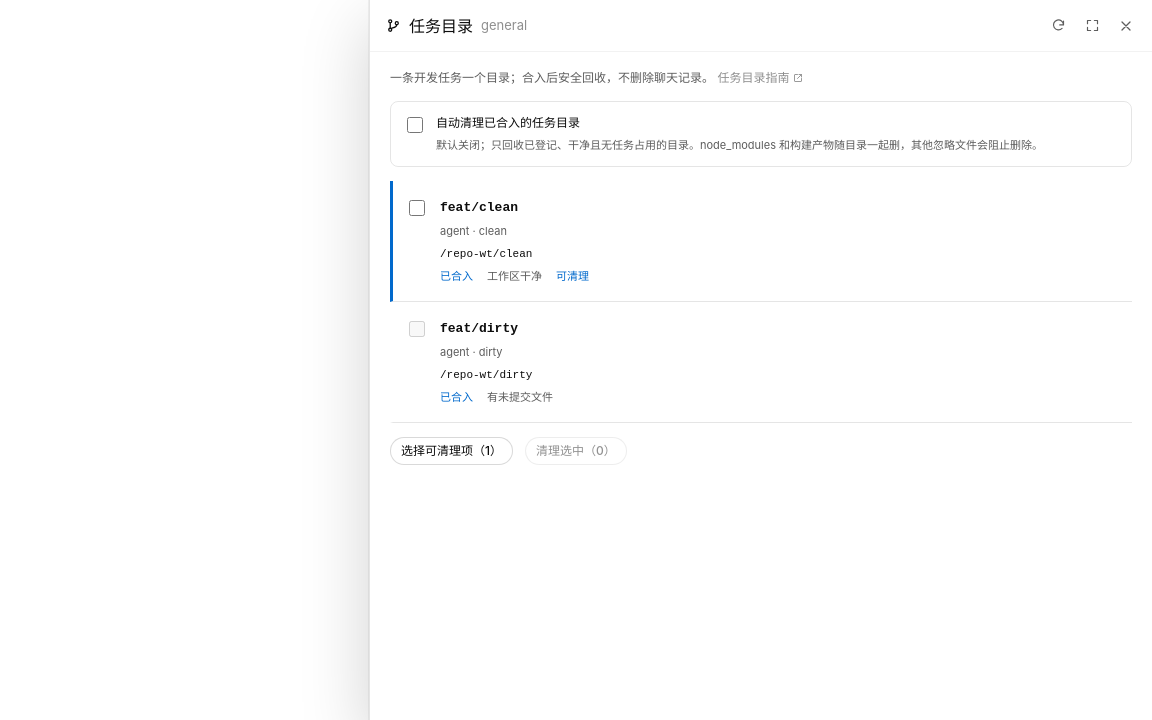
Test case: WorktreePanel › opens as the 任务目录 sheet with the room name, and closes on Escape unless a confirmation is open
This screenshot has width=1152, height=720.
Later steps or results of the test are not shown.
Expected: the dialog "任务目录" shows "general", [481, 17, 527, 33]
Expected: the text "feat/clean" is shown, [440, 200, 518, 215]
Click the checkbox labelled "自动清理已合入的任务目录" at (415, 125), box [407, 117, 423, 133]
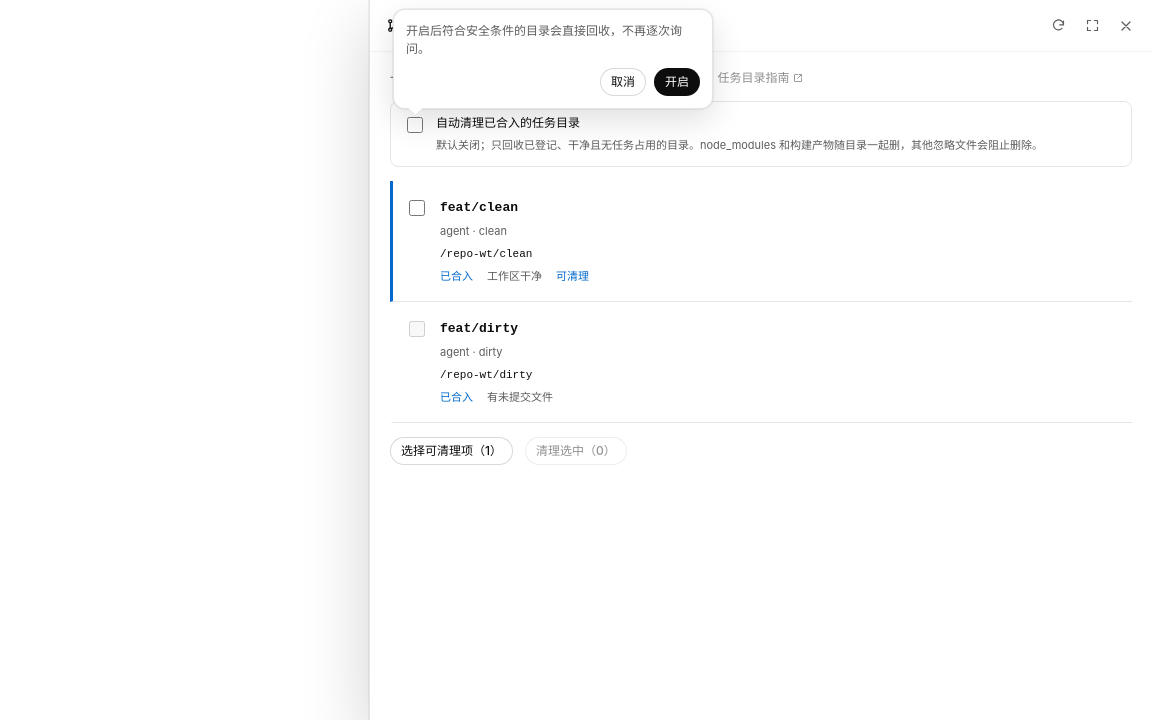
Press Escape in the dialog named "确认开启自动清理", box [393, 9, 713, 109]
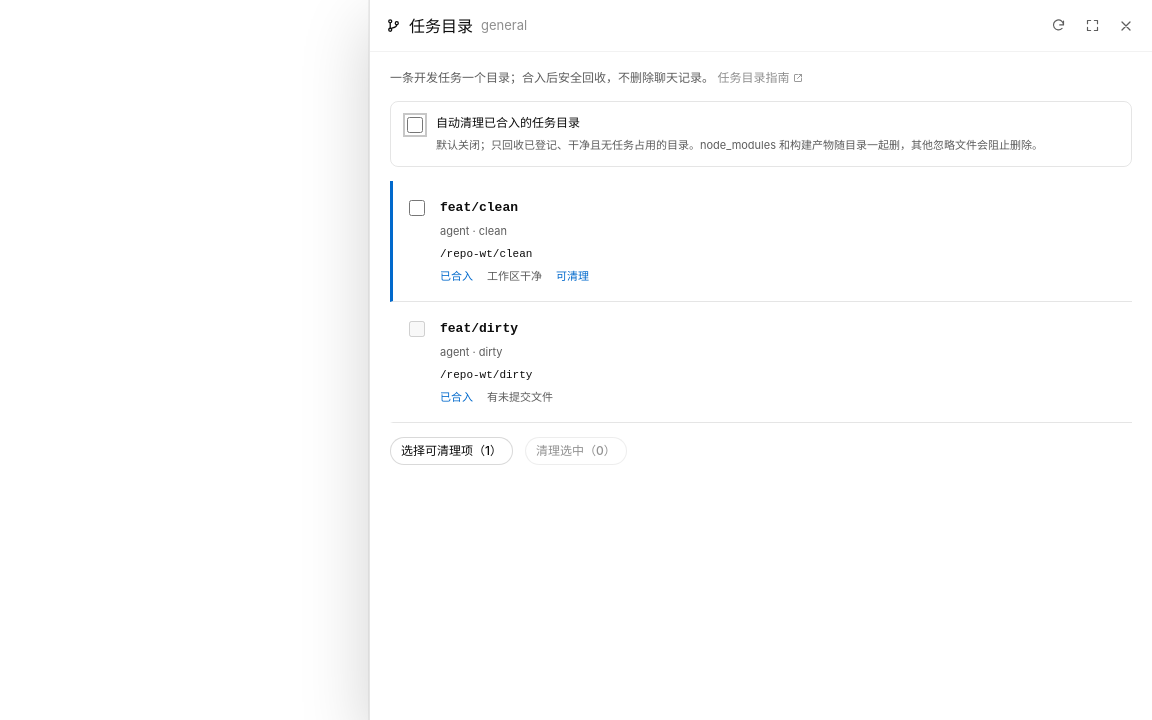
Expected: the dialog "确认开启自动清理" is gone
